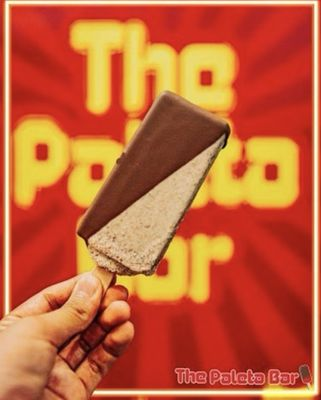pizza: (3, 61, 314, 399)
